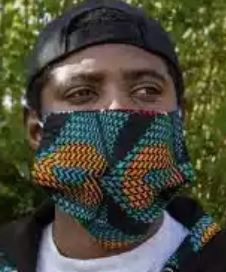with_facemask: (39, 105, 183, 227)
